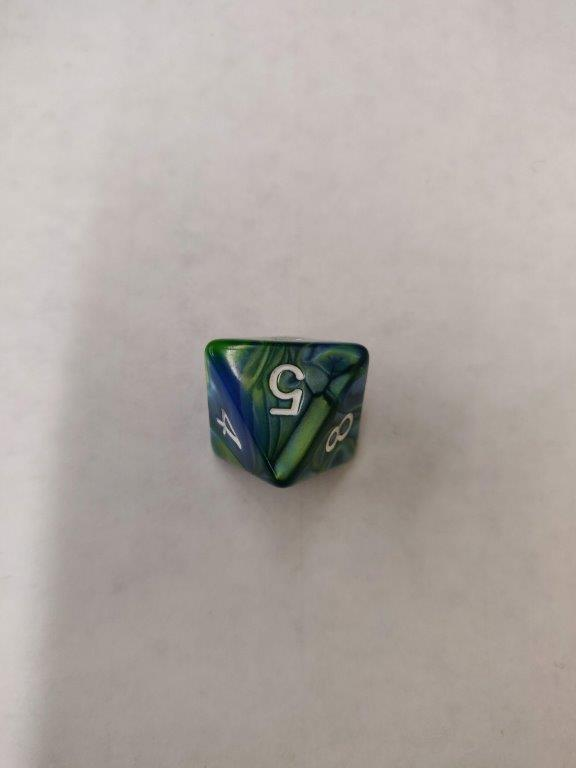d8-5: (199, 333, 371, 482)
